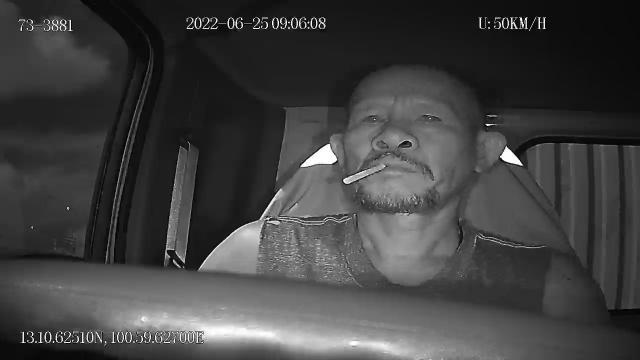SafeDriving: (410, 102, 449, 131), (354, 105, 392, 133)
Smoking: (342, 162, 386, 184)
